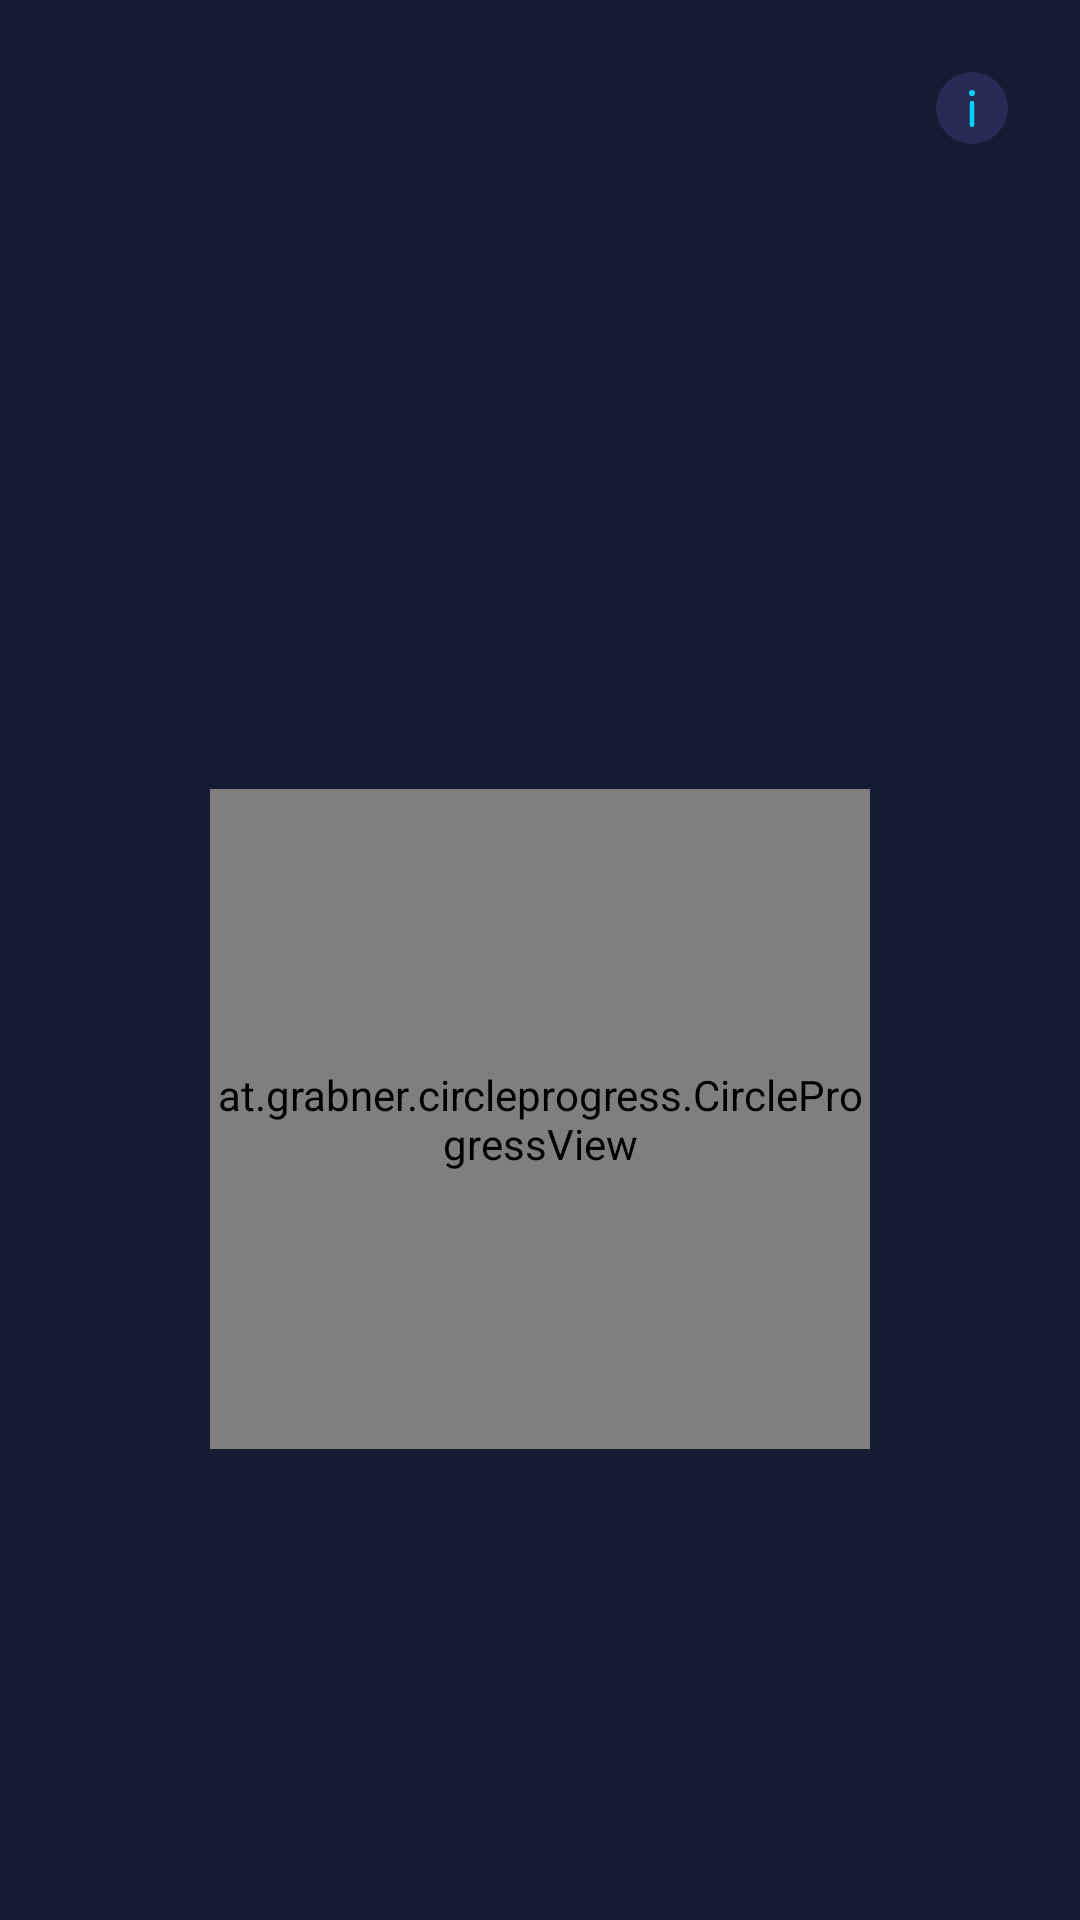

Screen size 1080*1920. Icon name, then its center in pixels as (x,y):
info main view controller: (972,108)
